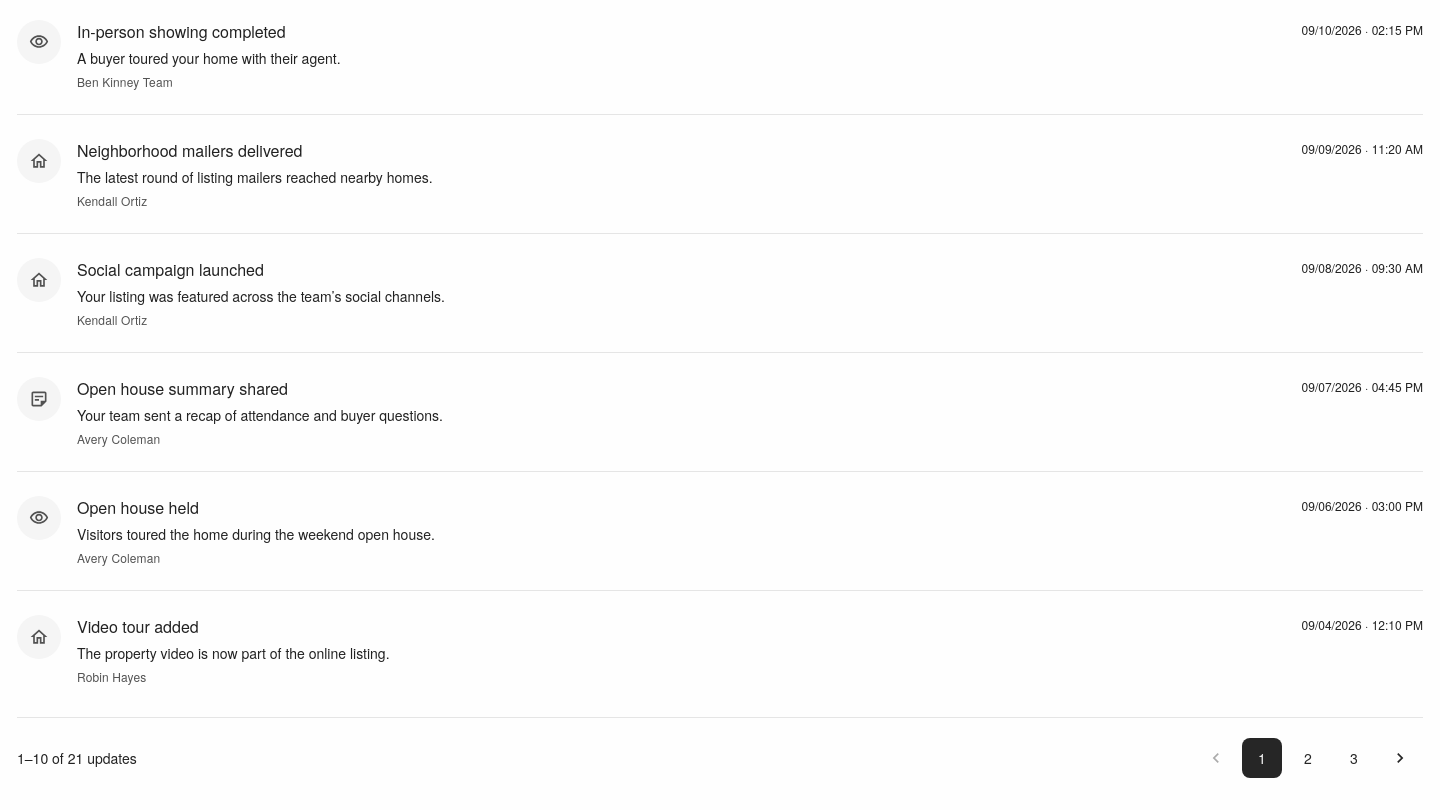
Test case: ActivityPanel › shows 10 updates per page and the final remaining update
(page scrolled)
Expected: the text "1–10 of 21 updates" is shown, [17,748,137,768]
Click the button named "Go to page 2".
click(1308, 758)  # box [1288,738,1328,778]
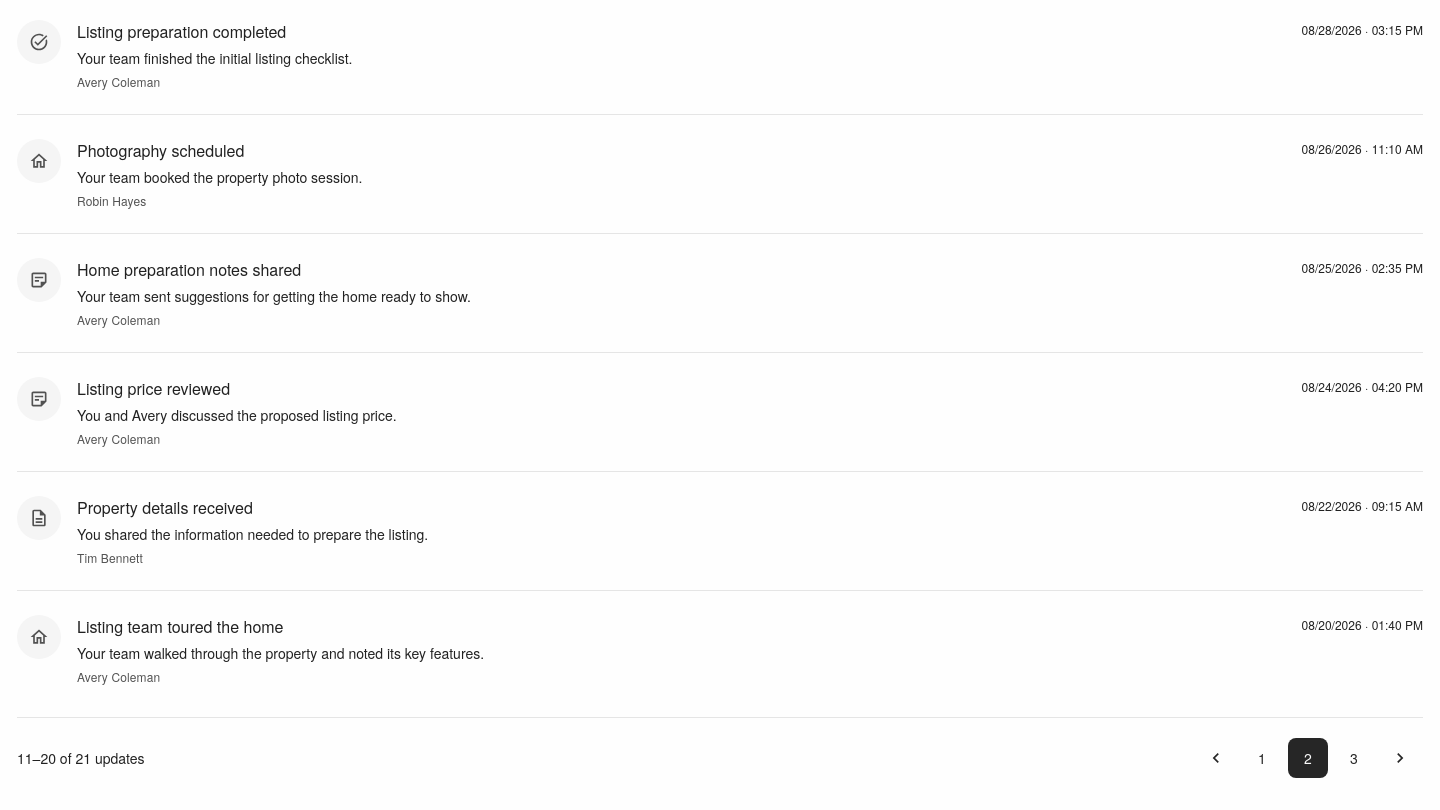
Now the text "11–20 of 21 updates" is shown, box [17,748,144,768]
Click the button named "Go to page 3".
click(1354, 758)  # box [1334,738,1374,778]
(page scrolled)
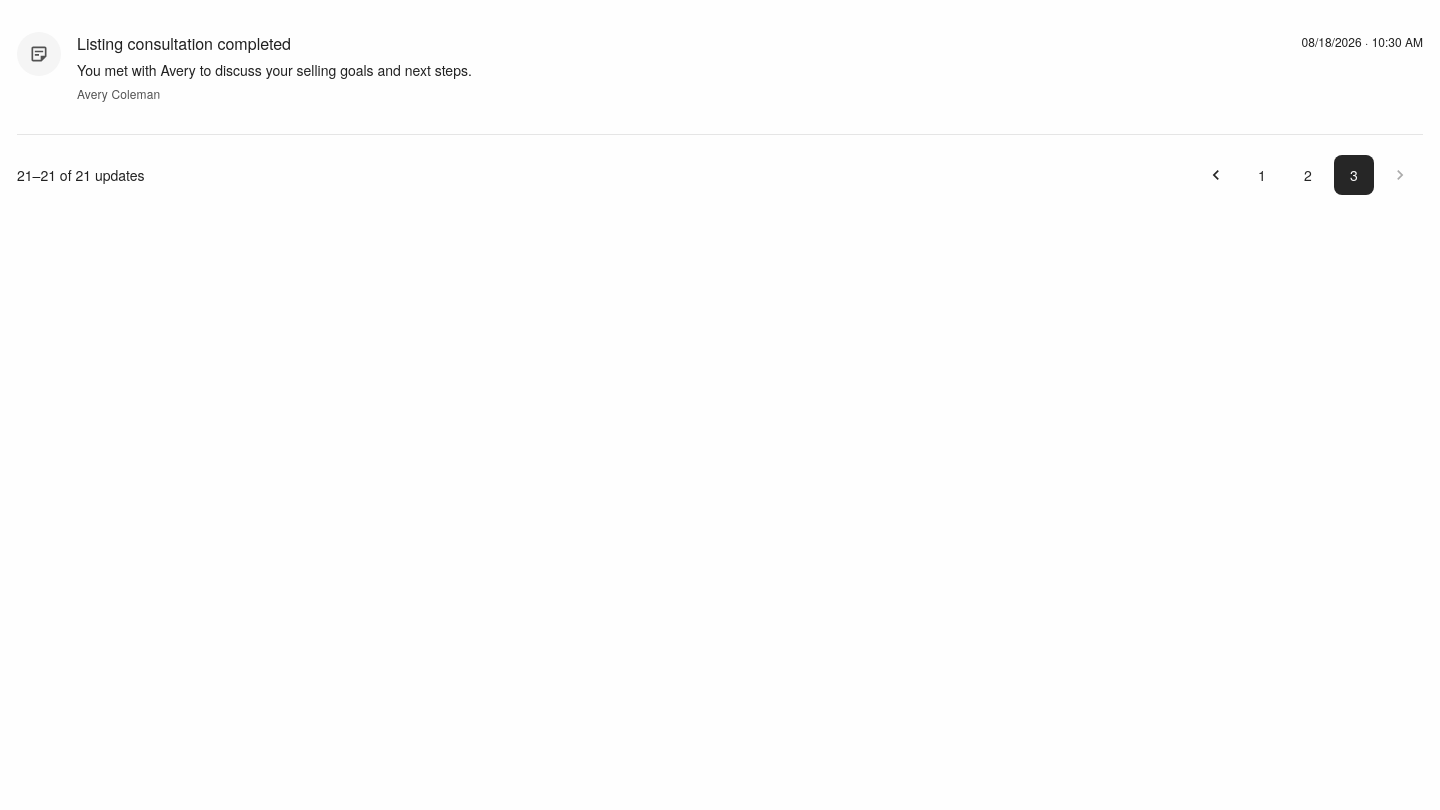
Now the number of list items with class "activity-event-row" is 1, box [17,32,1423,102]
Now the text "21–21 of 21 updates" is shown, box [17,165,144,185]
Now the text "Listing consultation completed" is shown, box [77,32,291,55]
